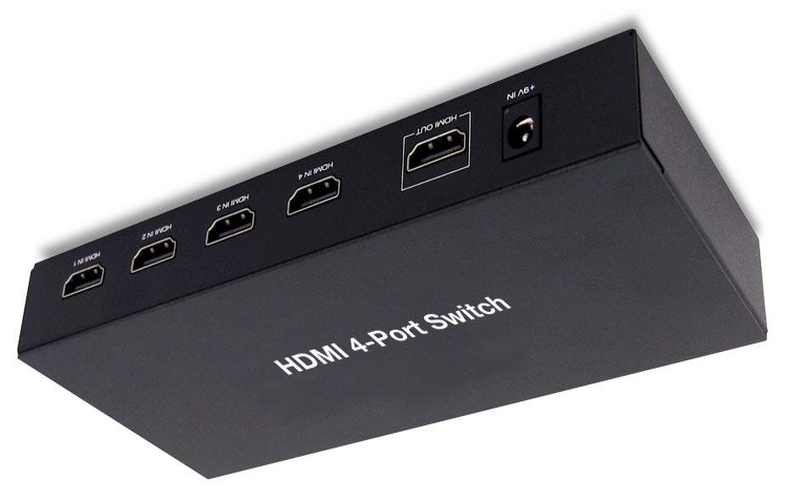Switches: (16, 34, 781, 482)
